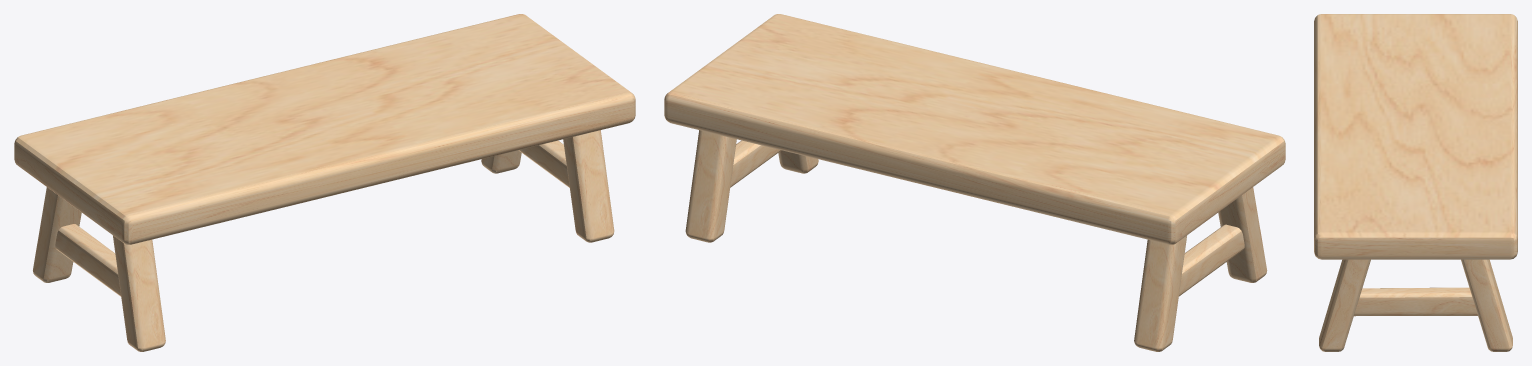
The model's file is shoe rack.fbx.
3 renders of one model, left to right at view 1: azimuth 30°, elevation 25°; view 2: azimuth 150°, elevation 25°; view 3: azimuth 270°, elevation 25°, orthographic. The views are drawn at different scales.
Visible parts, largest first — view 1: pCube1, pCube2, pCube5, pCube4, pCube6, pCube7, pCube3; view 2: pCube1, pCube4, pCube3, pCube2, pCube6, pCube7, pCube5; view 3: pCube1, pCube7, pCube5, pCube3.
Part boxes in pixels (<box>): pCube1: <box>14,14,635,244</box>; pCube2: <box>113,235,165,351</box>; pCube5: <box>563,130,614,242</box>; pCube4: <box>33,187,81,282</box>; pCube6: <box>55,224,121,296</box>; pCube7: <box>518,140,569,187</box>; pCube3: <box>481,150,521,173</box>; pCube1: <box>664,14,1285,244</box>; pCube4: <box>1134,235,1186,351</box>; pCube3: <box>685,130,736,242</box>; pCube2: <box>1218,187,1267,282</box>; pCube6: <box>1179,224,1244,296</box>; pCube7: <box>730,140,781,187</box>; pCube5: <box>778,150,818,173</box>; pCube1: <box>1314,14,1517,259</box>; pCube7: <box>1354,287,1477,316</box>; pCube5: <box>1319,259,1370,351</box>; pCube3: <box>1461,259,1512,351</box>.
Bounding box in the file's own units: 1.76 × 0.468 × 0.6778.
1 material, 1 textured.
